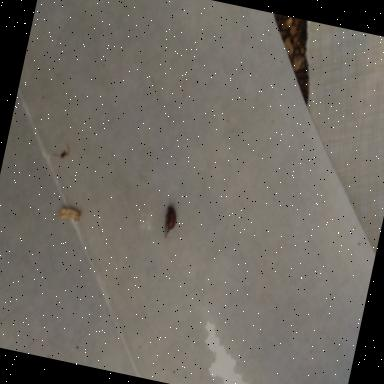pbw: (56, 206, 82, 222)
